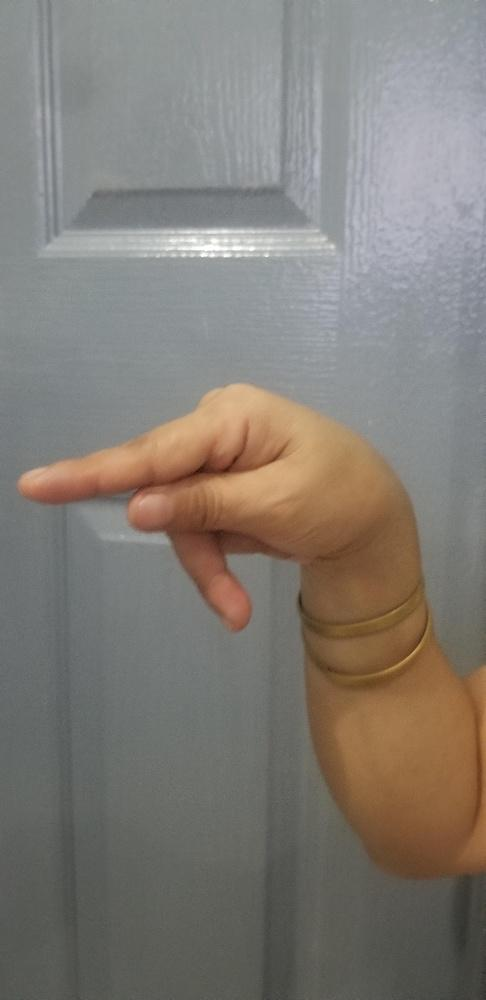p: (15, 378, 413, 635)
